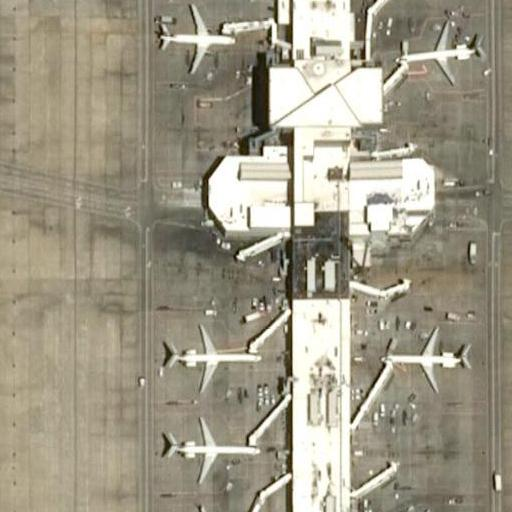Aircraft: (154, 312, 263, 392), (155, 409, 261, 485), (391, 18, 488, 87), (383, 318, 474, 391), (152, 0, 235, 73), (157, 500, 254, 512), (369, 501, 458, 512)
